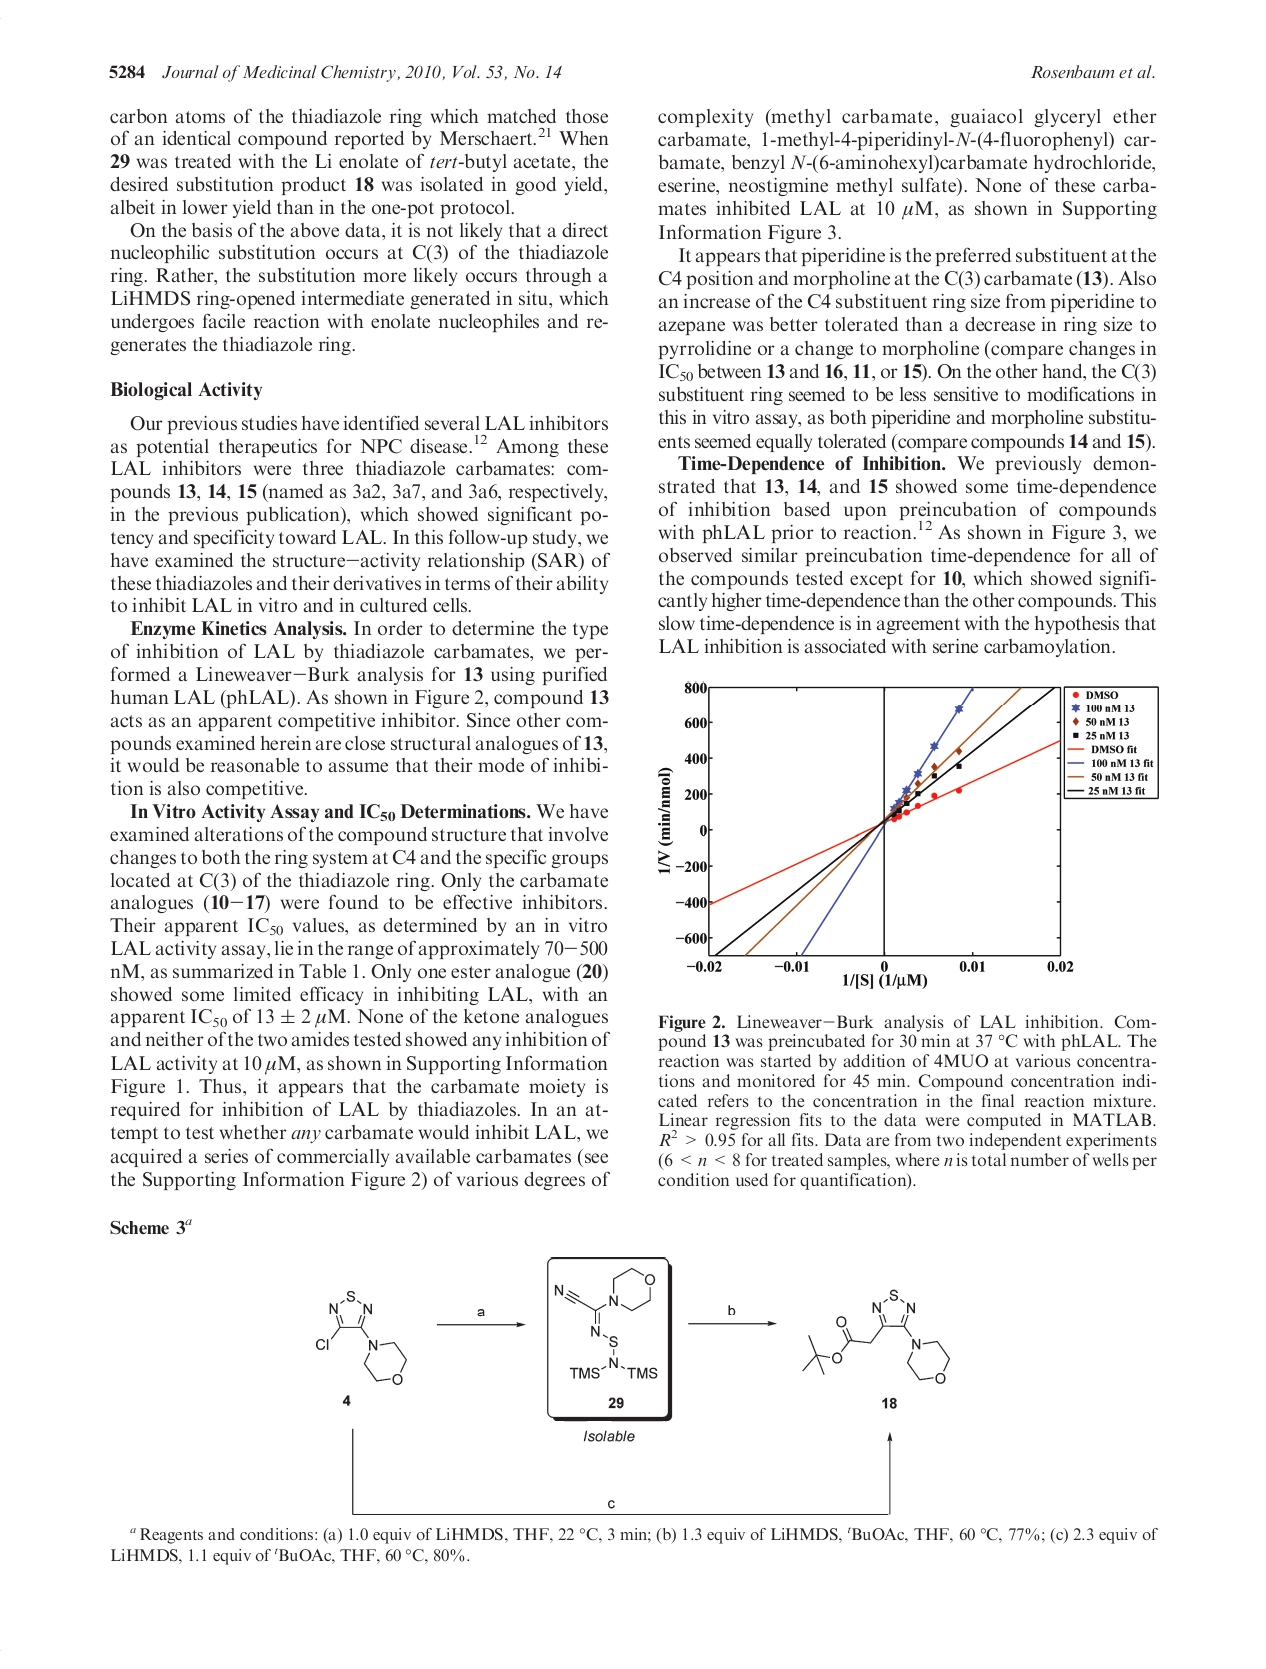exist_molecular: (798, 1285, 953, 1386), (553, 1265, 661, 1382), (313, 1289, 410, 1384)
